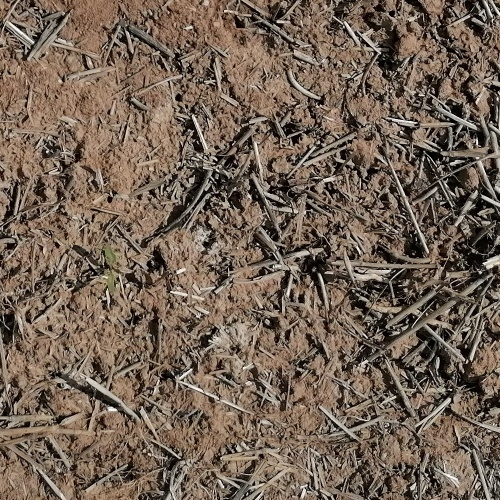beet: (101, 245, 119, 294)
